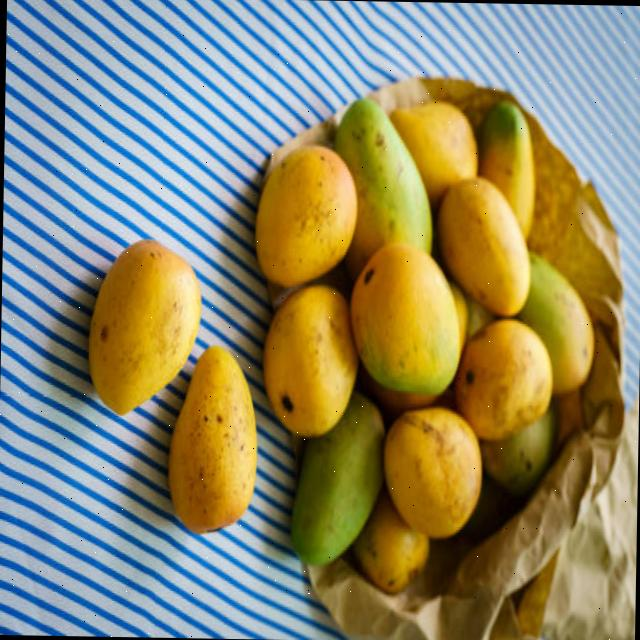mango: (88, 241, 199, 415), (334, 98, 431, 278), (349, 243, 459, 394), (168, 347, 255, 534), (290, 392, 383, 564), (262, 285, 357, 437), (254, 146, 354, 286), (436, 177, 530, 315), (383, 407, 481, 538), (453, 318, 552, 440), (518, 254, 592, 394), (390, 101, 476, 210), (352, 490, 427, 594), (477, 103, 534, 238), (480, 405, 556, 495)
